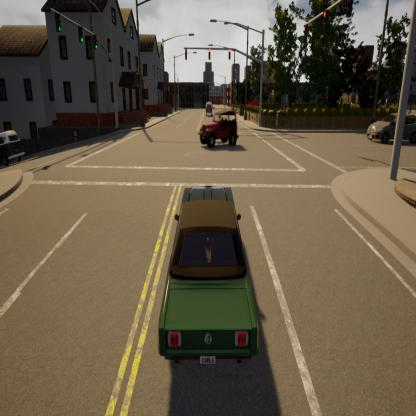Cars: (154, 183, 263, 370), (199, 107, 240, 150), (368, 112, 416, 148), (0, 129, 27, 171), (206, 98, 214, 115)
